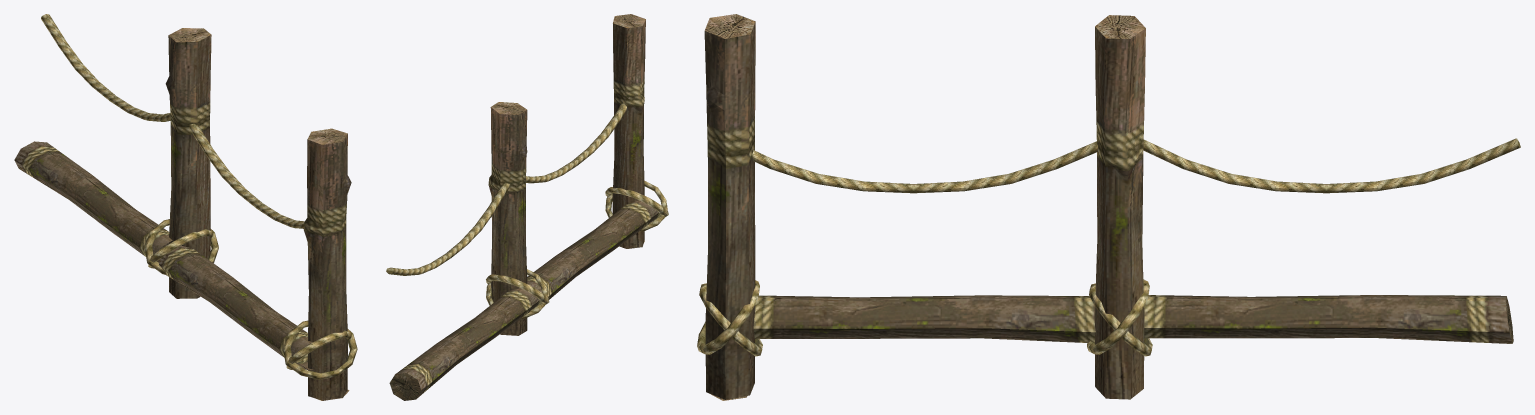
Rendered from bg_anh_mirrorv_logbridge02_b_sm_out.FBX.
The picture shows the model from 3 angles, left to right: view 1: azimuth 30°, elevation 25°; view 2: azimuth 150°, elevation 25°; view 3: azimuth 270°, elevation 25°; orthographic projection. The views are drawn at different scales.
Parts seen in each view (by area): view 1: bg_anh_mirrorv_logbridge02_b_sm_out; view 2: bg_anh_mirrorv_logbridge02_b_sm_out; view 3: bg_anh_mirrorv_logbridge02_b_sm_out.
Part boxes in pixels (x1,y1,x2,y2): bg_anh_mirrorv_logbridge02_b_sm_out: (14, 14, 357, 400); bg_anh_mirrorv_logbridge02_b_sm_out: (386, 14, 668, 400); bg_anh_mirrorv_logbridge02_b_sm_out: (697, 14, 1520, 400).
Bounding box in the file's own units: 52.67 × 183 × 377.
